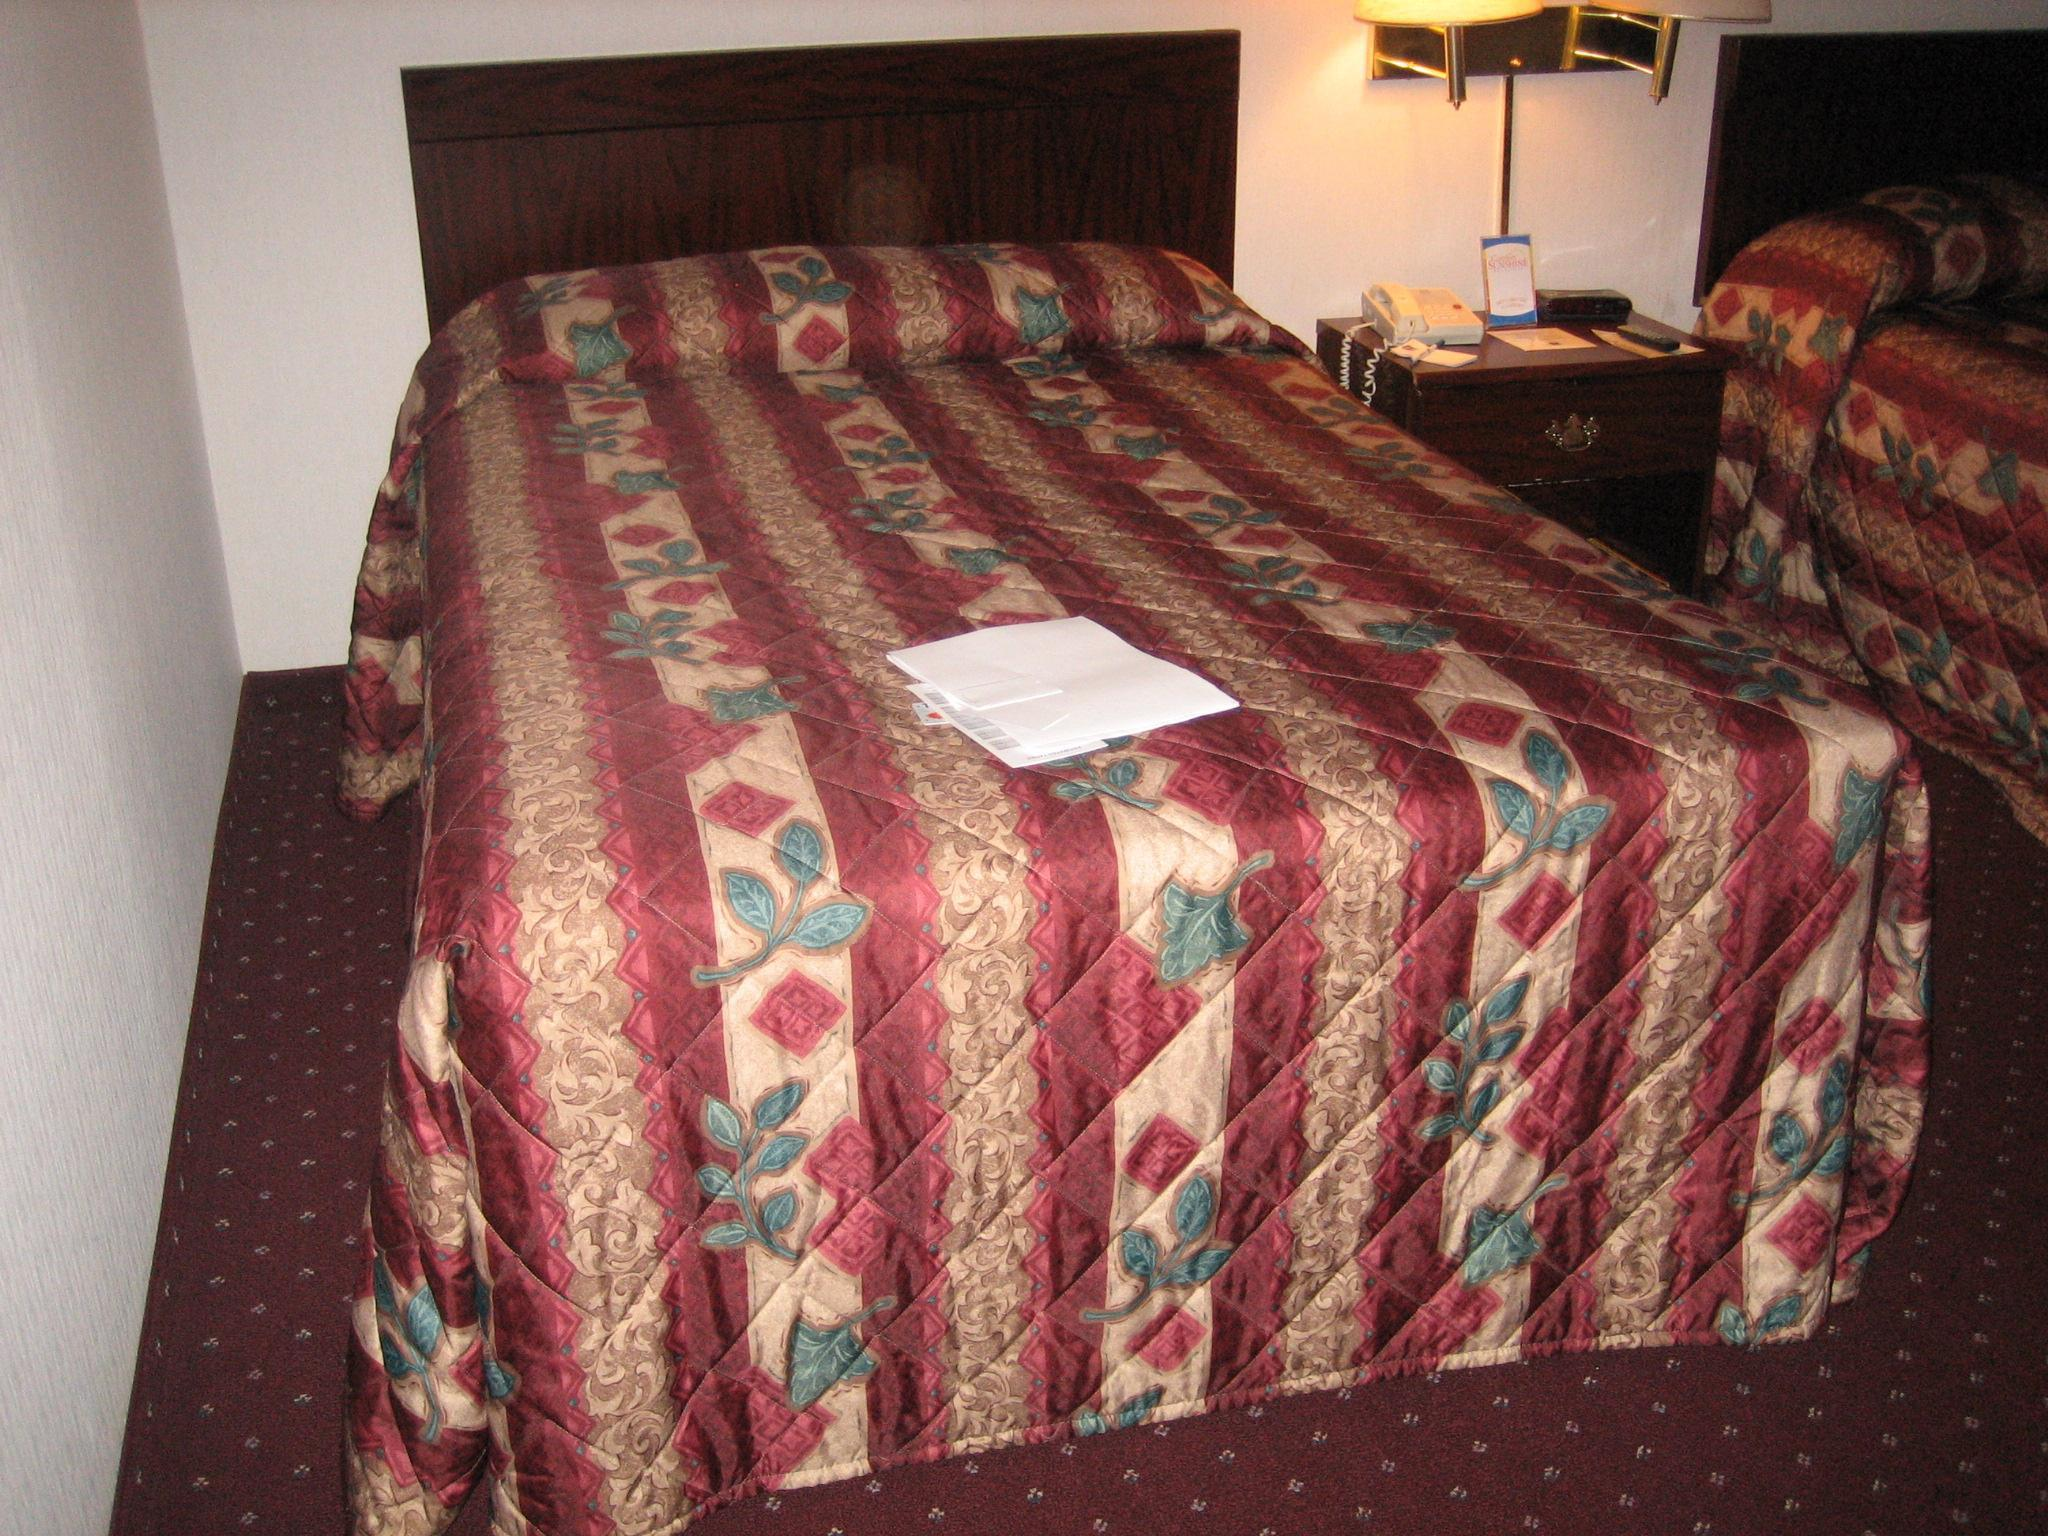Cama: (390, 39, 1893, 1496), (1721, 53, 2046, 807)
